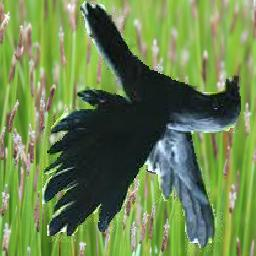Crow: (43, 2, 242, 255)
